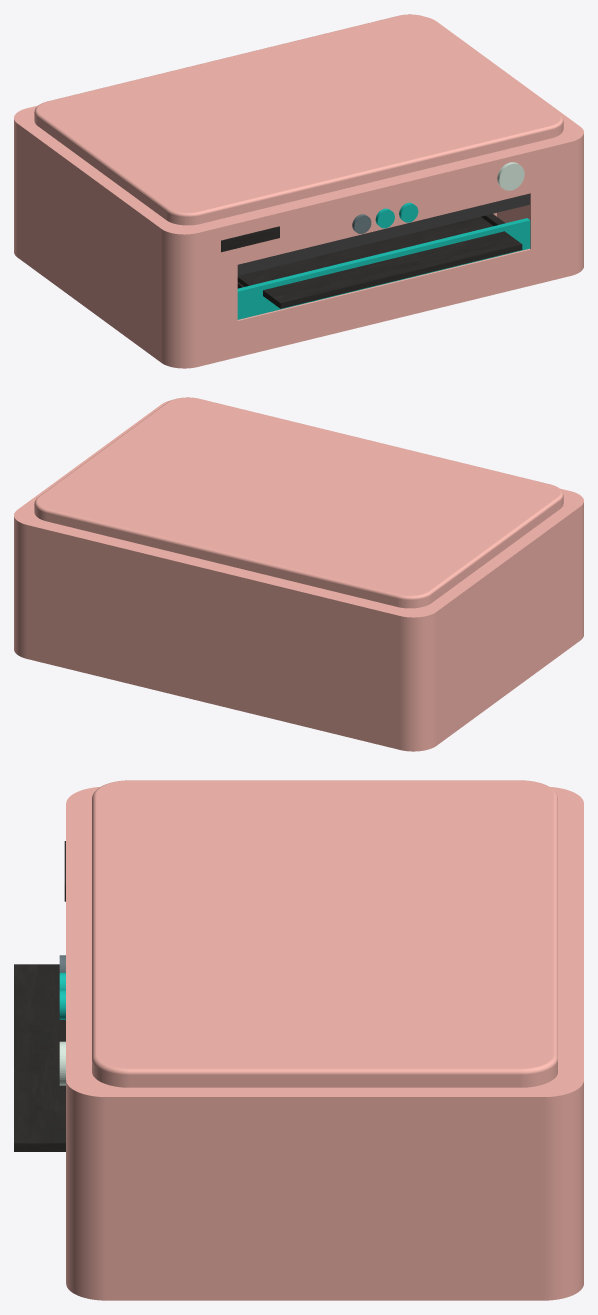
File: Technology_Printer__0112.glb
The picture shows the model from 3 angles, top to bottom: view 1: azimuth 30°, elevation 25°; view 2: azimuth 150°, elevation 25°; view 3: azimuth 270°, elevation 25°; orthographic projection. The views are drawn at different scales.
Parts seen in each view (by area): view 1: body::body_shell, body::top_deck, paper_stopper::stopper_flap, body::output_shadow, body::control_panel, output_tray::tray_plate, body::brand_plate, body::badge_roundel; view 2: body::body_shell, body::top_deck; view 3: body::top_deck, body::body_shell, paper_stopper::stopper_flap.
Part boxes in pixels (<box>): body::body_shell: <box>14,17,583,368</box>; body::top_deck: <box>34,14,563,225</box>; paper_stopper::stopper_flap: <box>263,231,522,308</box>; body::output_shadow: <box>237,218,530,319</box>; body::control_panel: <box>237,193,529,275</box>; output_tray::tray_plate: <box>237,216,493,288</box>; body::brand_plate: <box>221,226,279,252</box>; body::badge_roundel: <box>497,162,524,190</box>; body::body_shell: <box>14,400,583,751</box>; body::top_deck: <box>34,397,563,608</box>; body::top_deck: <box>92,780,557,1087</box>; body::body_shell: <box>66,787,583,1300</box>; paper_stopper::stopper_flap: <box>14,964,65,1151</box>.
Size of the model in its own units: 0.4649 by 0.1541 by 0.3607.
Materials: 6 (3 with a texture image).
